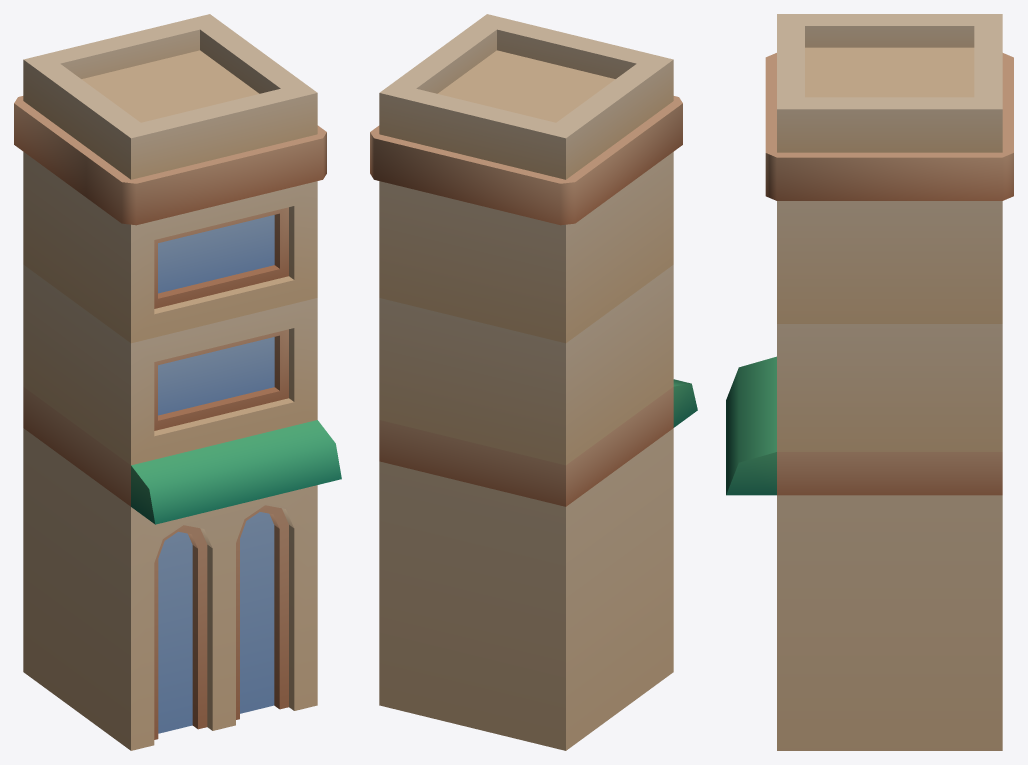
File: tower-c.glb
The picture shows the model from 3 angles, left to right: view 1: azimuth 30°, elevation 25°; view 2: azimuth 150°, elevation 25°; view 3: azimuth 270°, elevation 25°; orthographic projection. The views are drawn at different scales.
Parts seen in each view (by area): view 1: mb_building-sample-tower-c; view 2: mb_building-sample-tower-c; view 3: mb_building-sample-tower-c.
Part boxes in pixels (<box>): mb_building-sample-tower-c: <box>14,14,341,750</box>; mb_building-sample-tower-c: <box>370,14,697,750</box>; mb_building-sample-tower-c: <box>726,14,1013,750</box>.
Size of the model in its own units: 1.1 by 3.14 by 1.28.
